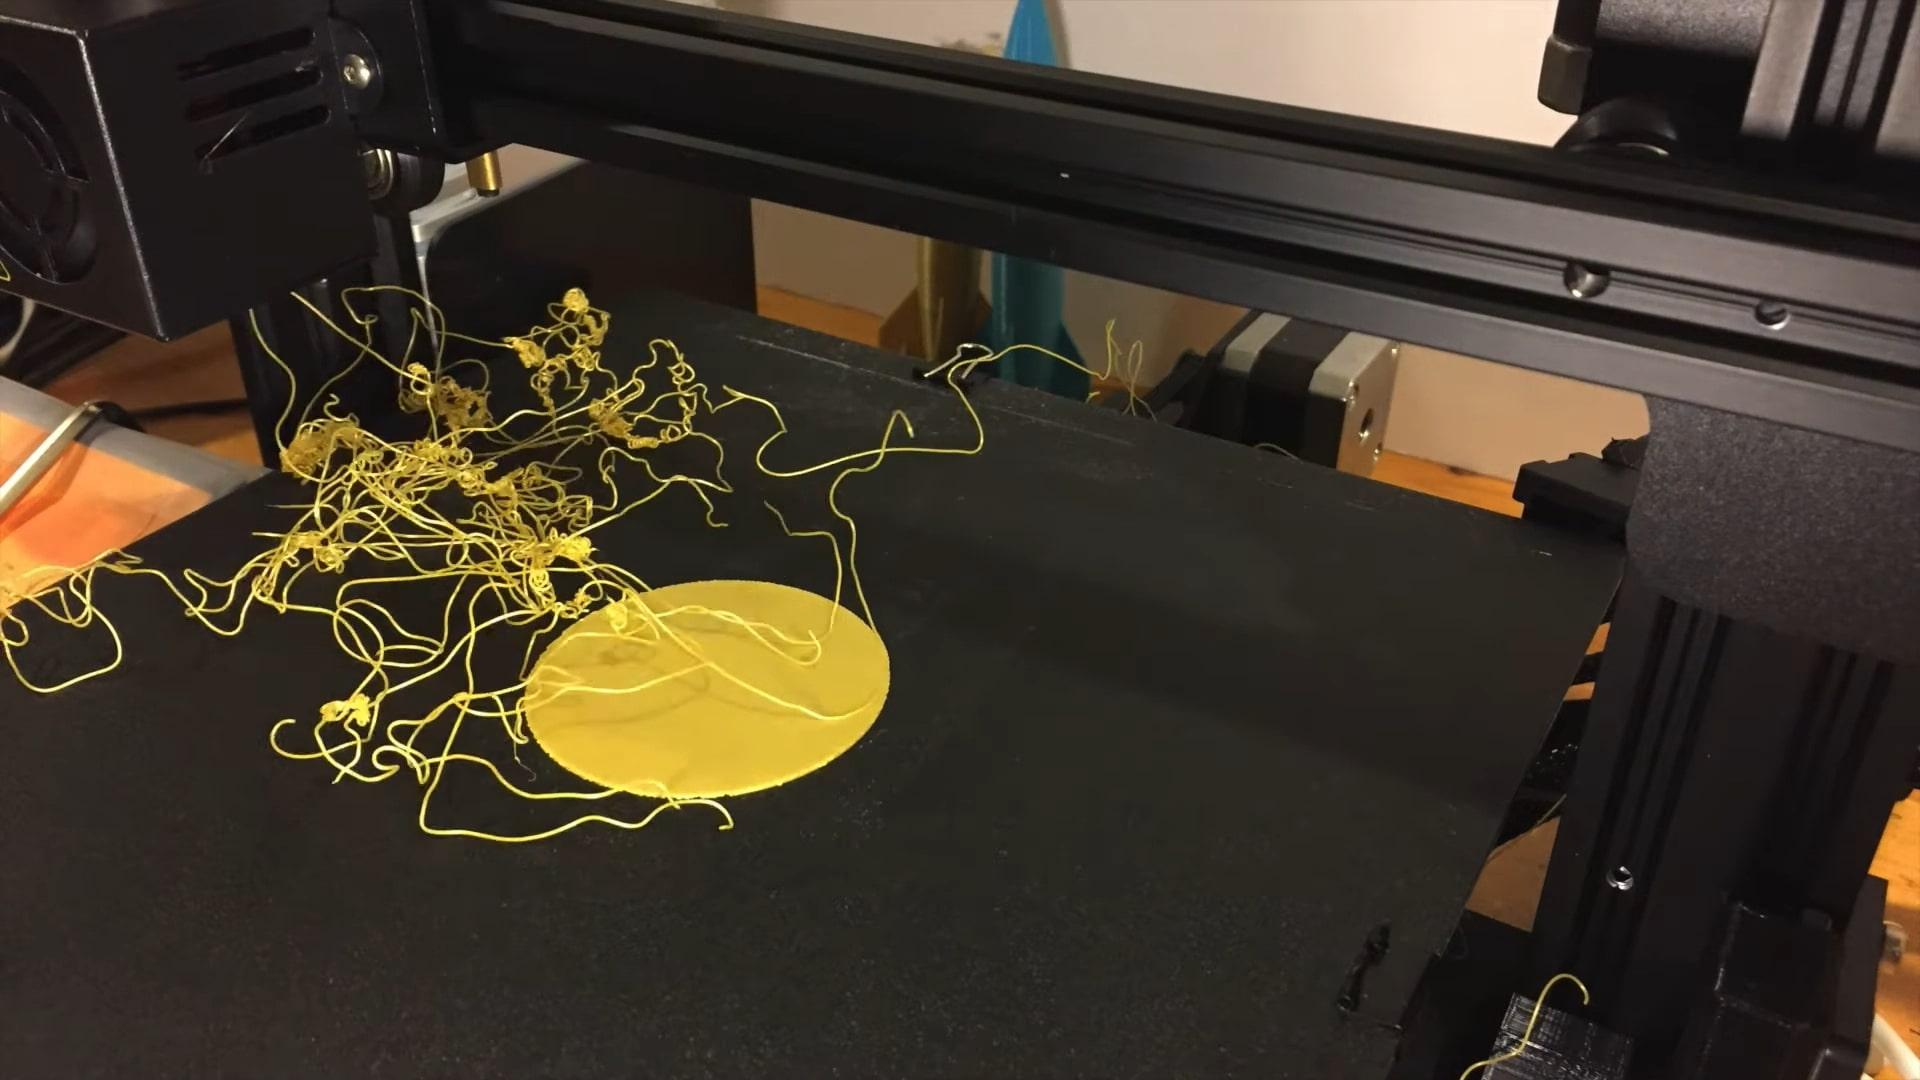Printing-Artifact: (162, 287, 802, 843)
